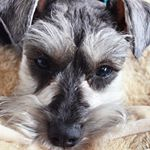puppy: (6, 1, 149, 148)
